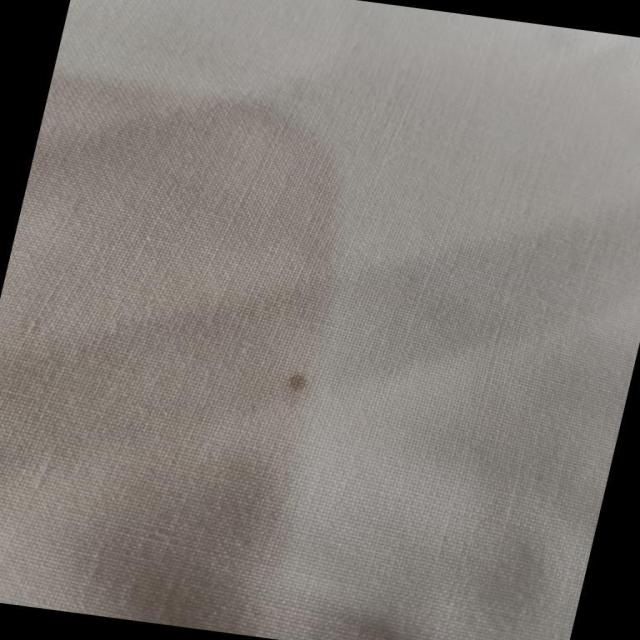stain: (261, 345, 337, 431)
